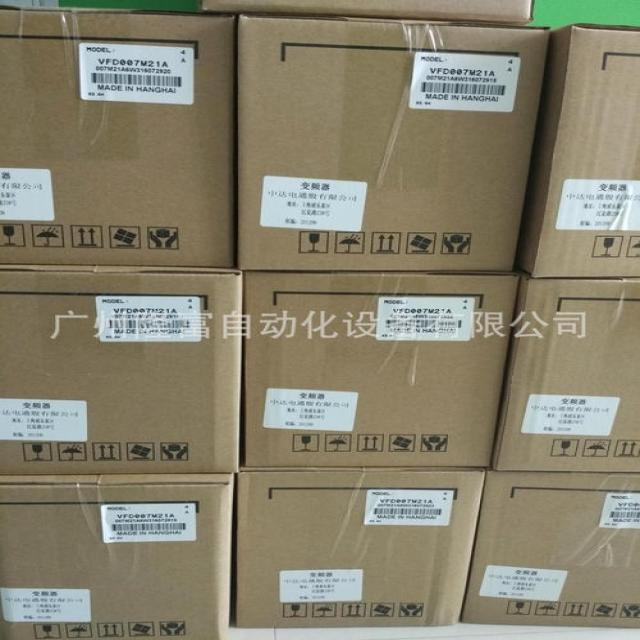box: (237, 15, 551, 272), (1, 5, 236, 267), (244, 271, 519, 467), (0, 264, 243, 475), (237, 467, 486, 627), (1, 473, 235, 639), (517, 23, 639, 278), (490, 275, 639, 472), (461, 467, 639, 628), (200, 0, 532, 25)
